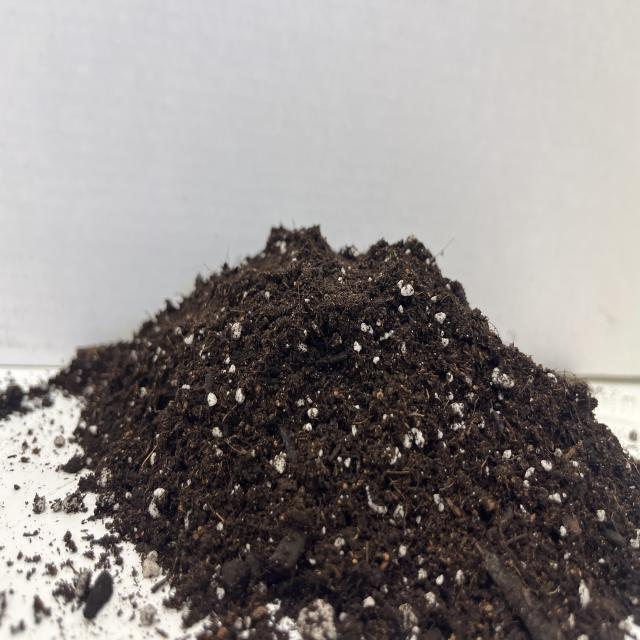soil: (7, 222, 638, 638)
